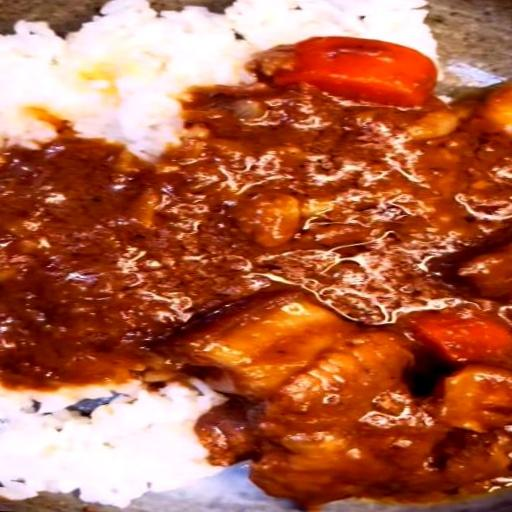pork caldereta: (6, 35, 511, 503)
